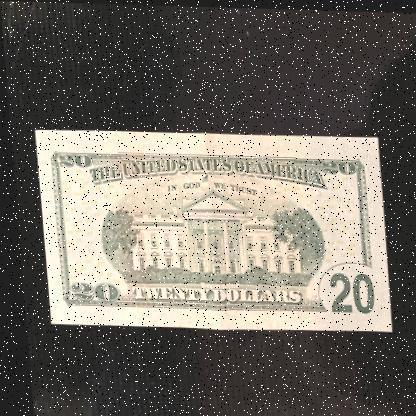twenty-back: (32, 126, 390, 330)
